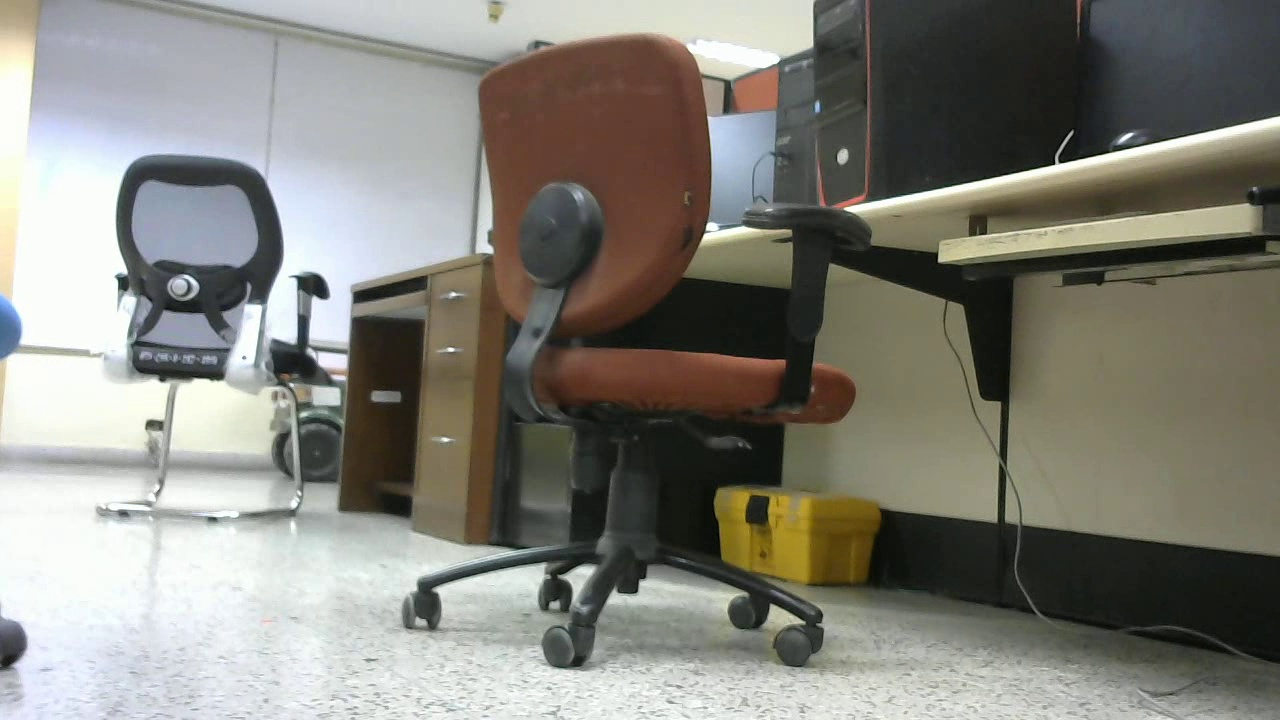chair: (399, 26, 836, 673), (94, 155, 329, 521)
